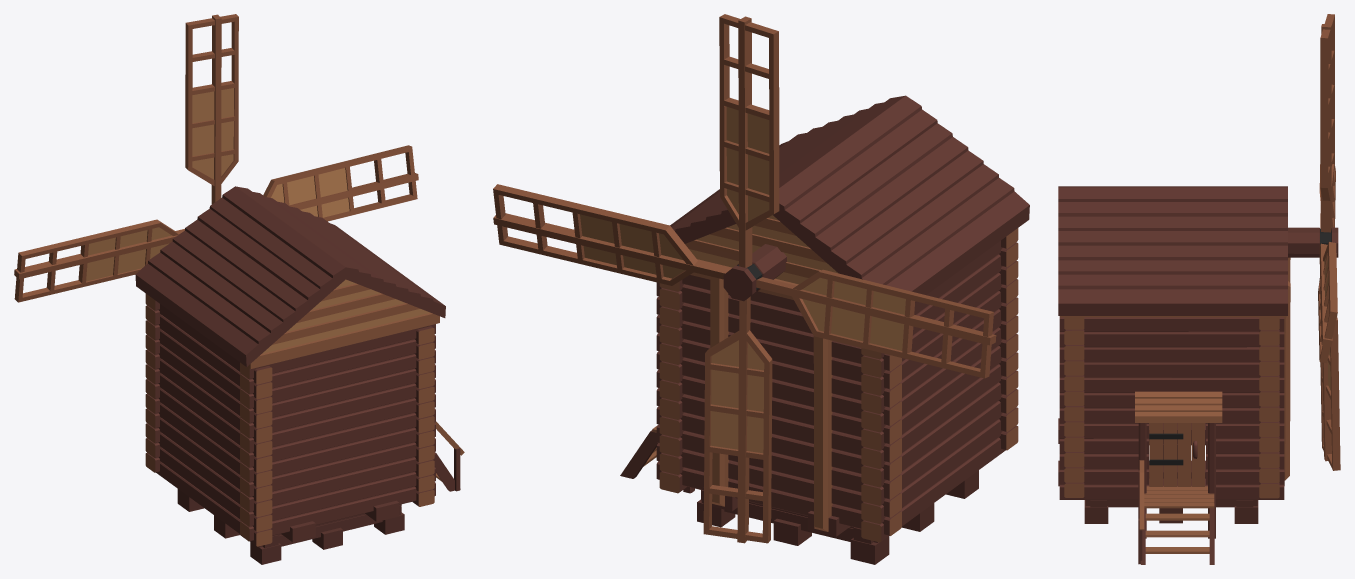
Rendered from mill_LOW_2.fbx.
The picture shows the model from 3 angles, left to right: view 1: azimuth 30°, elevation 25°; view 2: azimuth 150°, elevation 25°; view 3: azimuth 270°, elevation 25°; orthographic projection. The views are drawn at different scales.
Visible parts, largest first — view 1: mill, wind; view 2: mill, wind; view 3: mill, wind, door.
Boxes of the visible parts, <box> form: mill: <box>135,186,464,564</box>; wind: <box>14,14,418,302</box>; mill: <box>620,95,1029,564</box>; wind: <box>493,14,996,543</box>; mill: <box>1058,186,1290,564</box>; wind: <box>1288,14,1340,470</box>; door: <box>1149,423,1204,486</box>.
Size of the model in its own units: 506 by 539 by 298.
